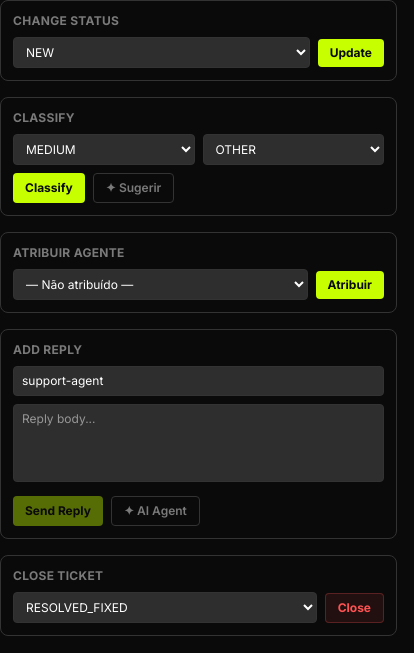
Test case: ActionButtons — AI classify suggest › updates category and priority dropdowns with AI suggestion
What coordinates should you click on to do the following:
click the button titled "sugerir categoria e prioridade"
I would click on:
 (134, 188)
Its box is [93,173,174,203].
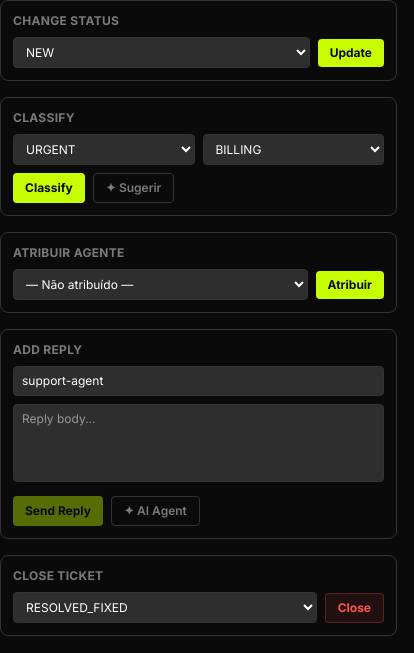
Now the 2nd dropdown showing "URGENT" is shown, box [13,134,194,165]
Now the 3rd dropdown showing "BILLING" is shown, box [202,134,384,165]
